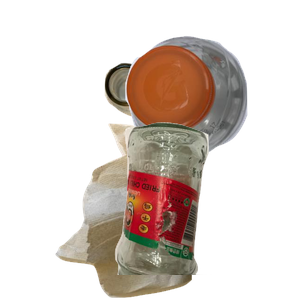glass: (112, 120, 300, 300)
metal: (102, 60, 252, 169)
plastic: (123, 33, 300, 181)
trash: (53, 121, 239, 300)
